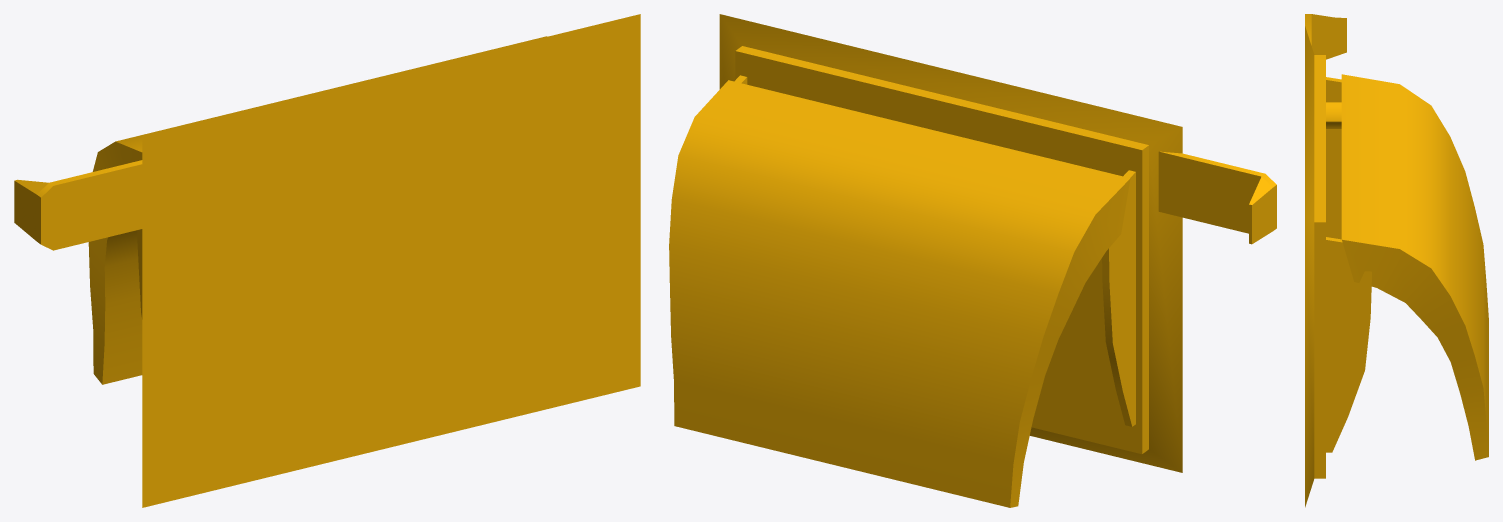
Rendered from Perforator.FBX.
3 renders of one model, left to right at view 1: azimuth 30°, elevation 25°; view 2: azimuth 150°, elevation 25°; view 3: azimuth 270°, elevation 25°, orthographic. The views are drawn at different scales.
Parts seen in each view (by area): view 1: Object004; view 2: Object004; view 3: Object004.
Boxes of the visible parts, x1,y1,x2,y2 form: Object004: (14, 14, 640, 507); Object004: (669, 14, 1276, 507); Object004: (1305, 14, 1488, 507).
Size of the model in its own units: 18.15 by 10.77 by 6.15.
